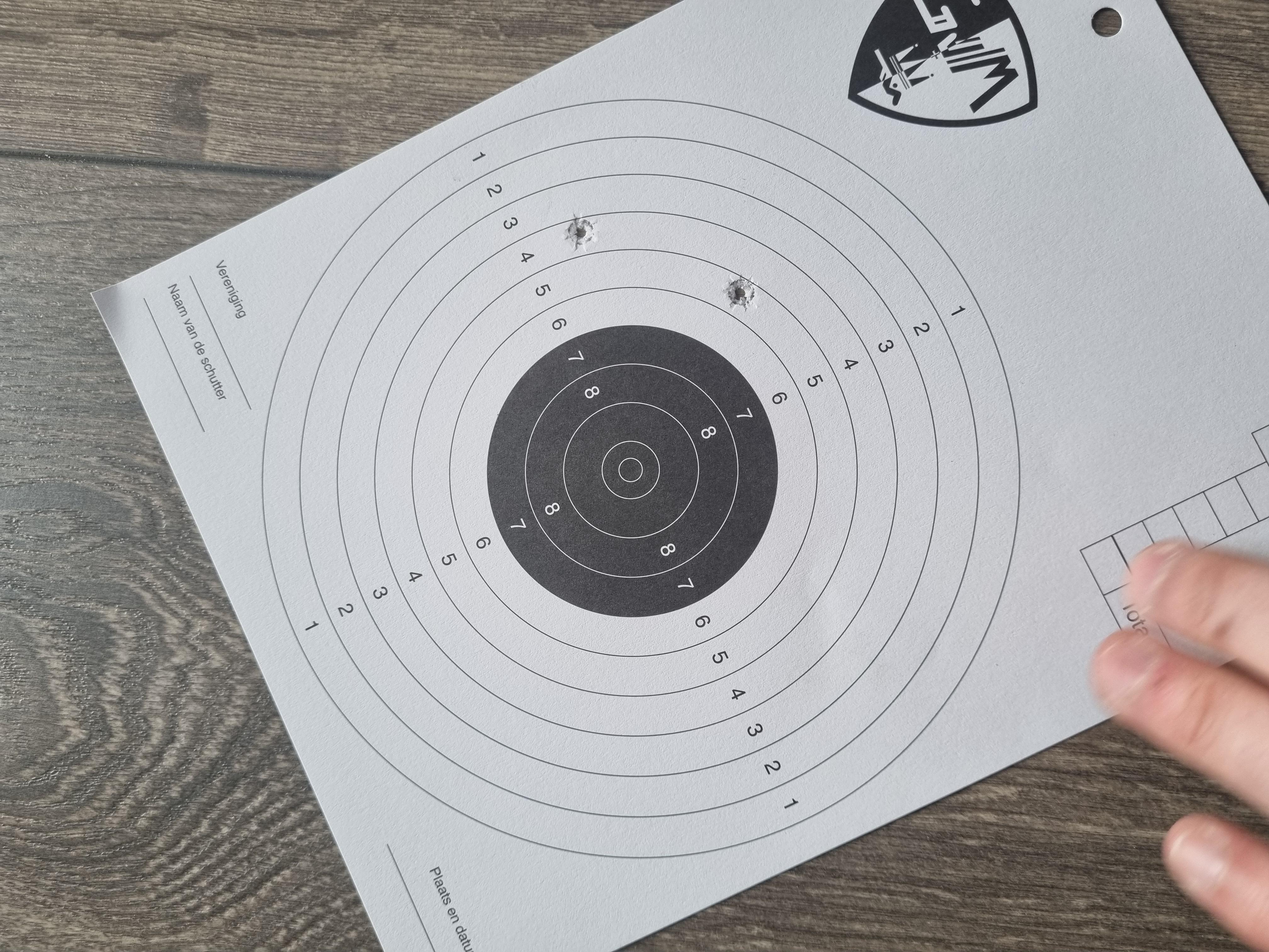hole: (935, 425, 985, 447), (854, 545, 902, 567)
